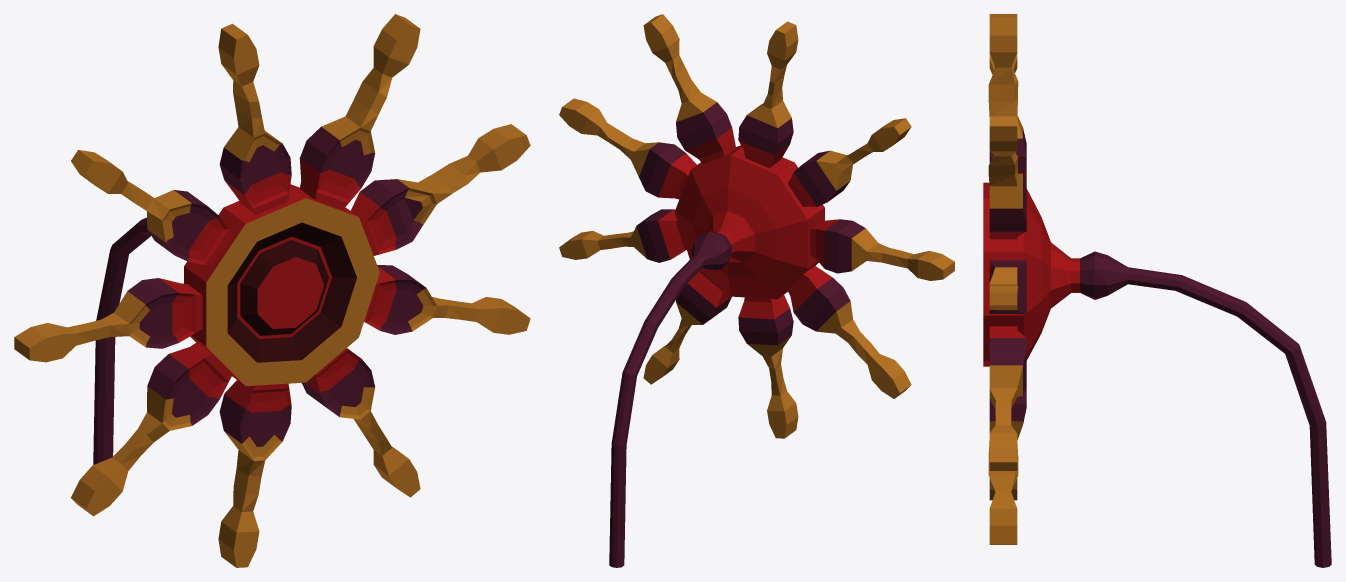
The model's file is sunflower.FBX.
3 views of the same model, side by side, from view 1: azimuth 30°, elevation 25°; view 2: azimuth 150°, elevation 25°; view 3: azimuth 270°, elevation 25° (orthographic). The views are drawn at different scales.
Parts seen in each view (by area): view 1: Cylinder001; view 2: Cylinder001; view 3: Cylinder001.
Part boxes in pixels (bbox=[...]): Cylinder001: bbox=[14, 14, 530, 567]; Cylinder001: bbox=[559, 14, 954, 567]; Cylinder001: bbox=[983, 14, 1331, 567].
Size of the model in its own units: 11188 by 12456 by 7428.
